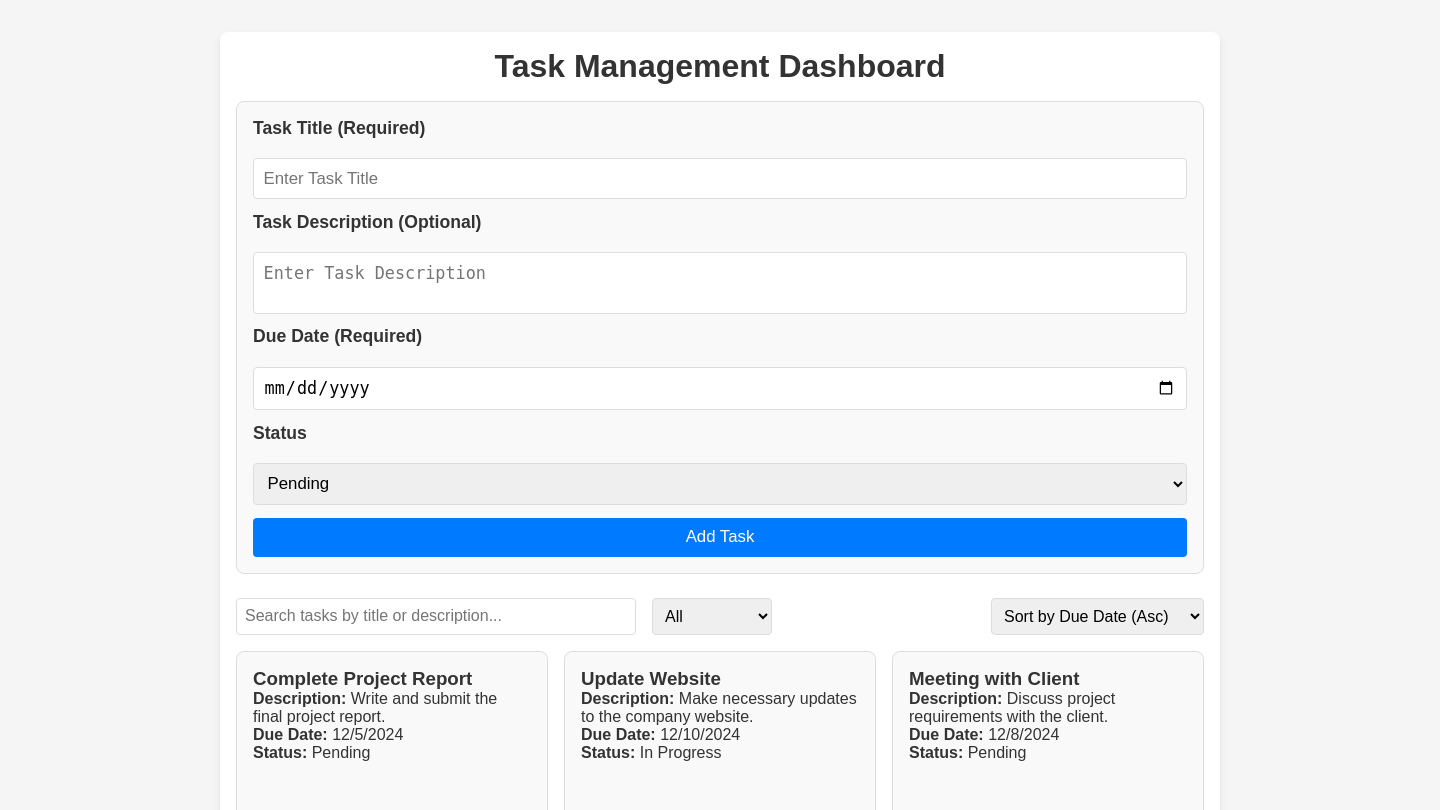
it: App Component › adds a new task
The image size is (1440, 810).
In the field with placeholder "Enter Task Title": (720, 179) x1=253 y1=158 x2=1187 y2=199, type "New Task"
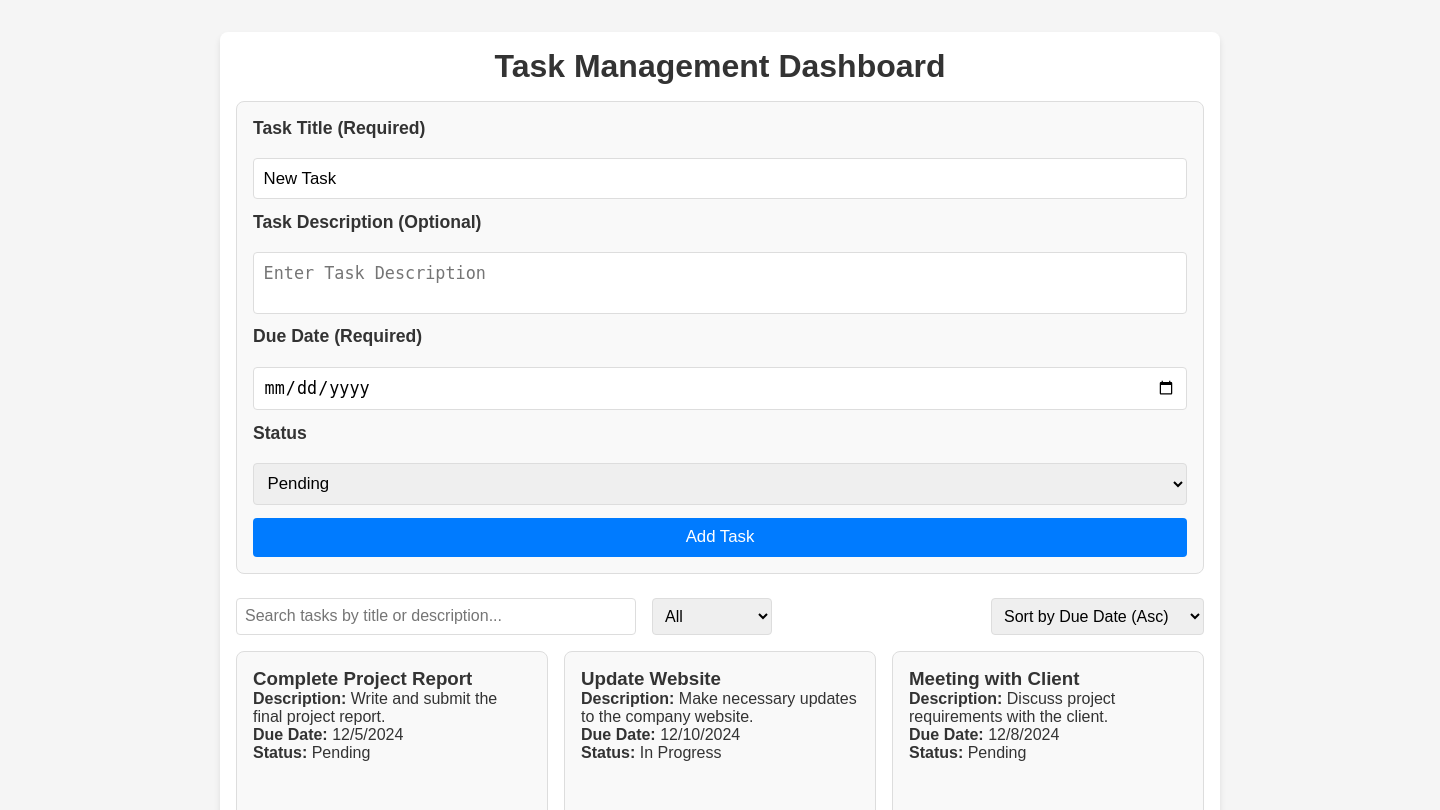
In the text box with placeholder "Enter Task Description": (720, 283) x1=253 y1=252 x2=1187 y2=314, type "This is a new task."
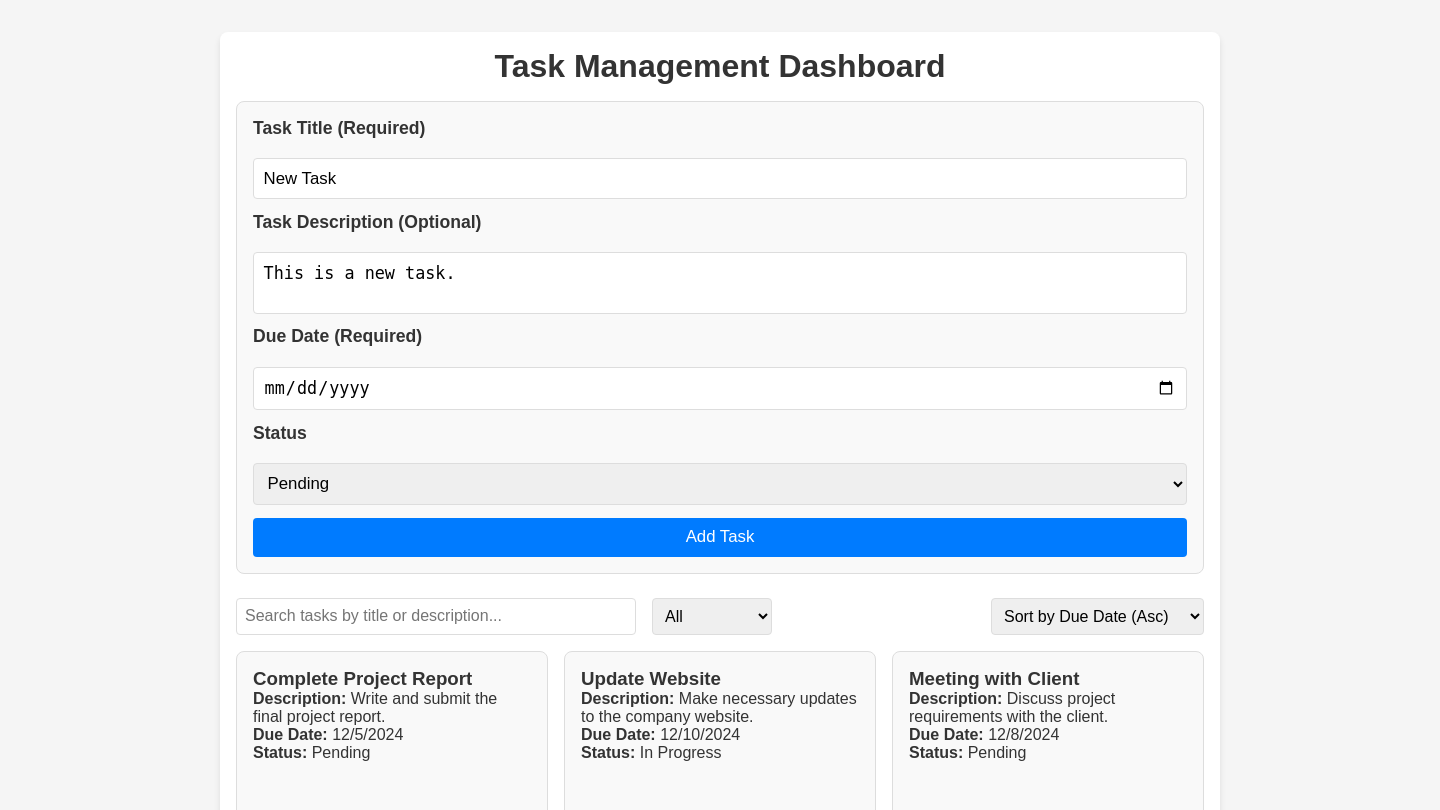
In the date field labelled "Due Date (Required)": (720, 388) x1=253 y1=366 x2=1187 y2=410, type "2024-12-15"
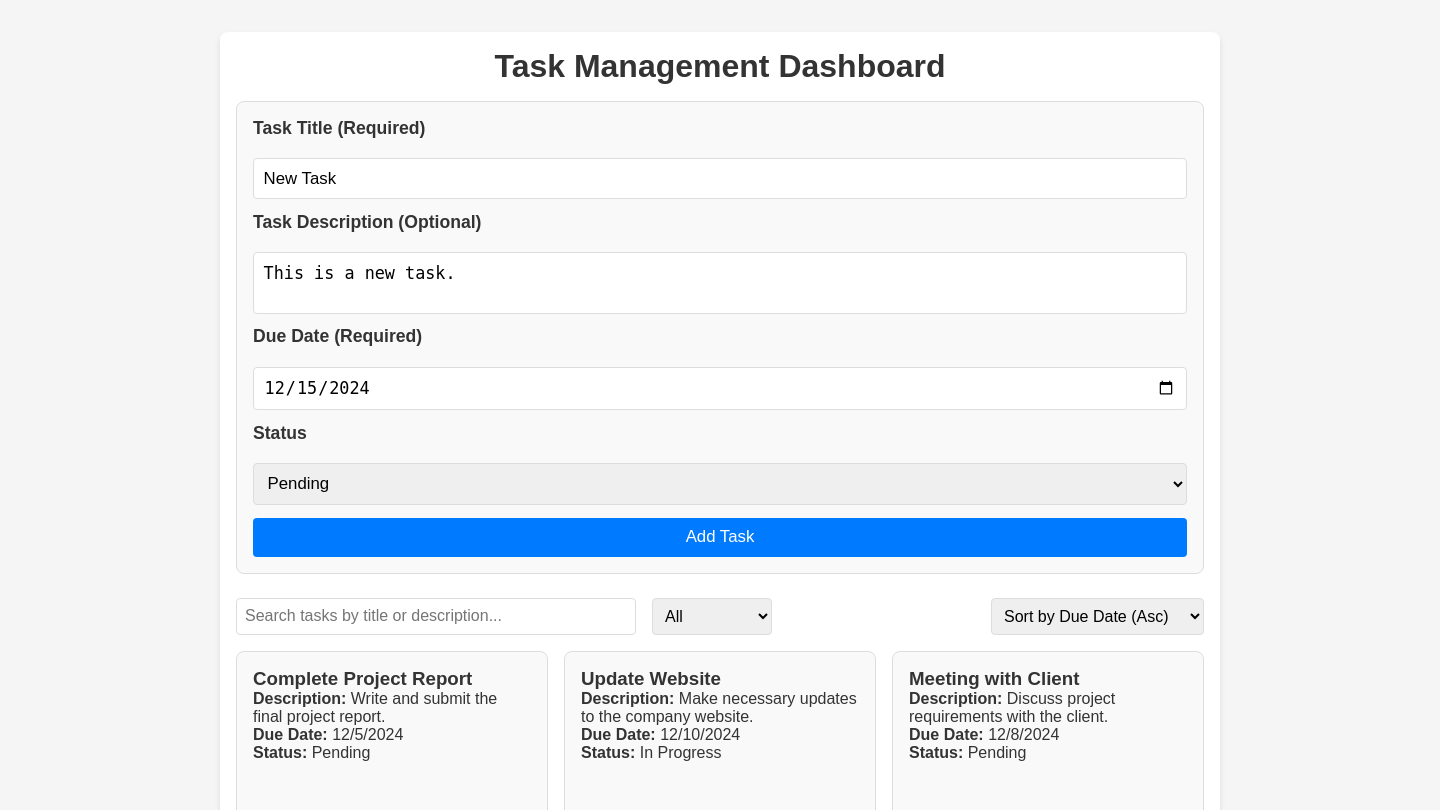
Click the button "Add Task": (720, 537) x1=253 y1=518 x2=1187 y2=557
(page scrolled)
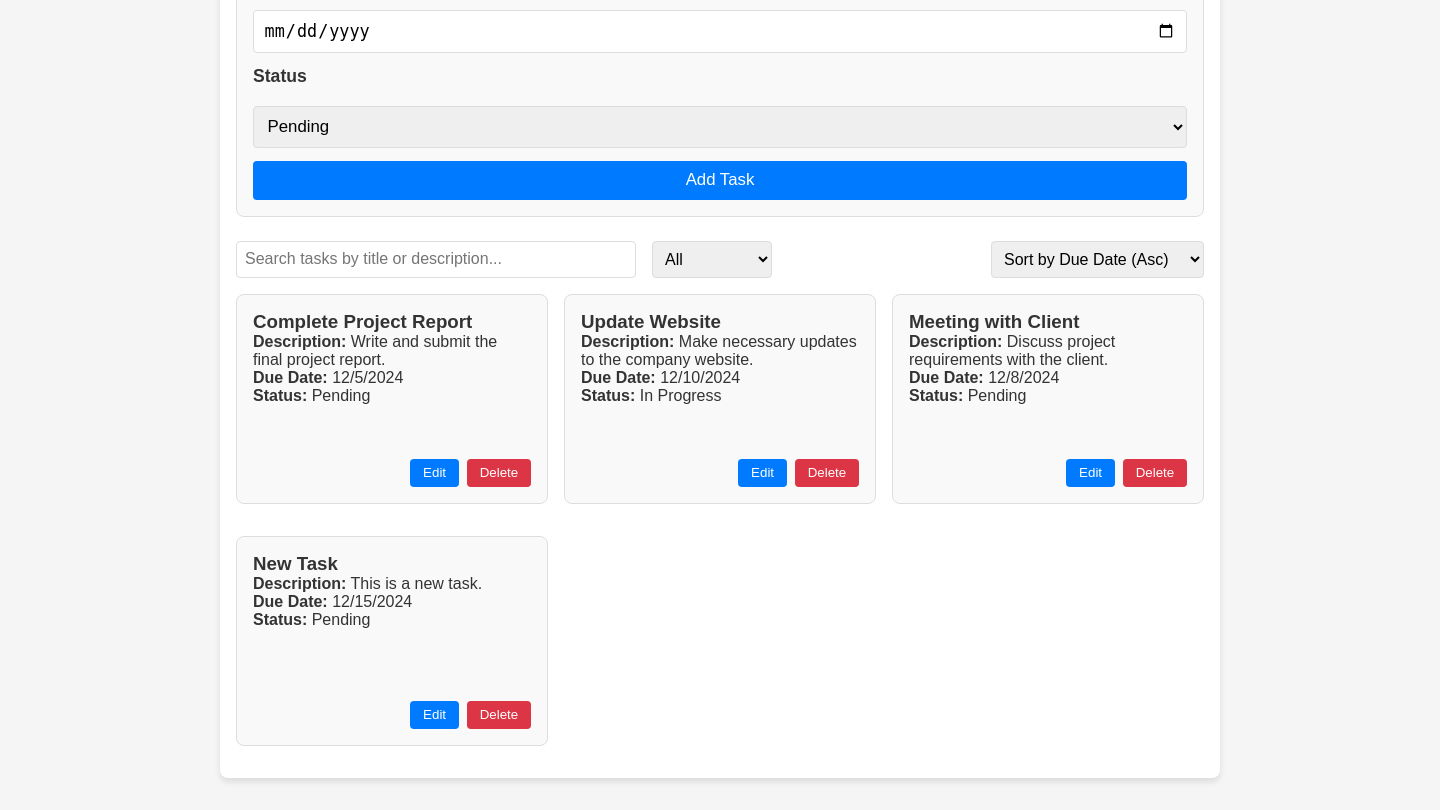
Now the heading "New Task" is shown, box x1=253 y1=553 x2=338 y2=574
Now the text "This is a new task." is shown, box x1=350 y1=575 x2=482 y2=592
